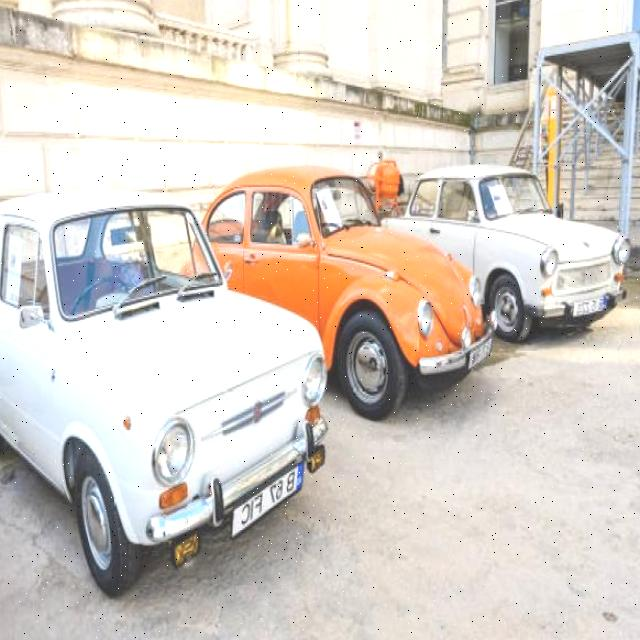car: (0, 198, 317, 559), (171, 160, 491, 404), (378, 157, 629, 342)
